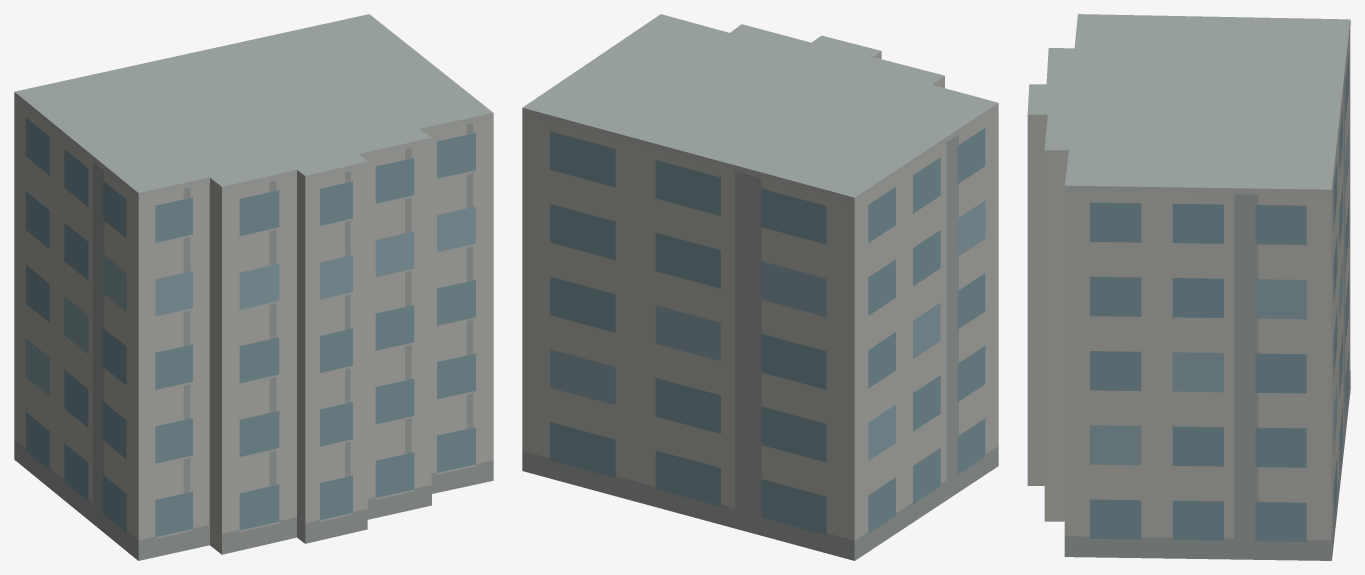
Rendered from survey-upis-32994328.glb.
3 views of the same model, side by side, from view 1: azimuth 30°, elevation 25°; view 2: azimuth 150°, elevation 25°; view 3: azimuth 270°, elevation 25° (orthographic). The views are drawn at different scales.
Visible parts, largest first — view 1: survey-upis-32994328.tmp; view 2: survey-upis-32994328.tmp; view 3: survey-upis-32994328.tmp.
Part boxes in pixels (x1=…): survey-upis-32994328.tmp: x1=14, y1=14, x2=493, y2=560; survey-upis-32994328.tmp: x1=522, y1=14, x2=998, y2=560; survey-upis-32994328.tmp: x1=1027, y1=14, x2=1350, y2=560.
Bounding box in the file's own units: 15.48 × 15.25 × 12.03.
